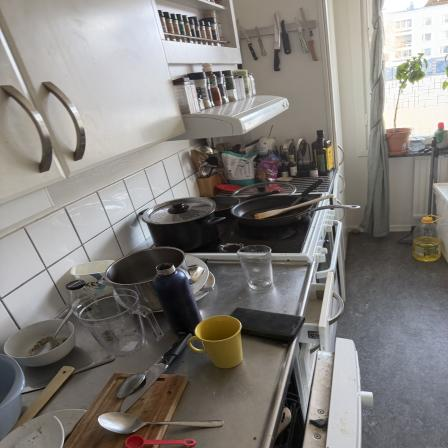blue_bottle: (152, 270, 208, 333)
phone: (230, 308, 306, 344)
yellow_cup: (188, 318, 256, 371)
